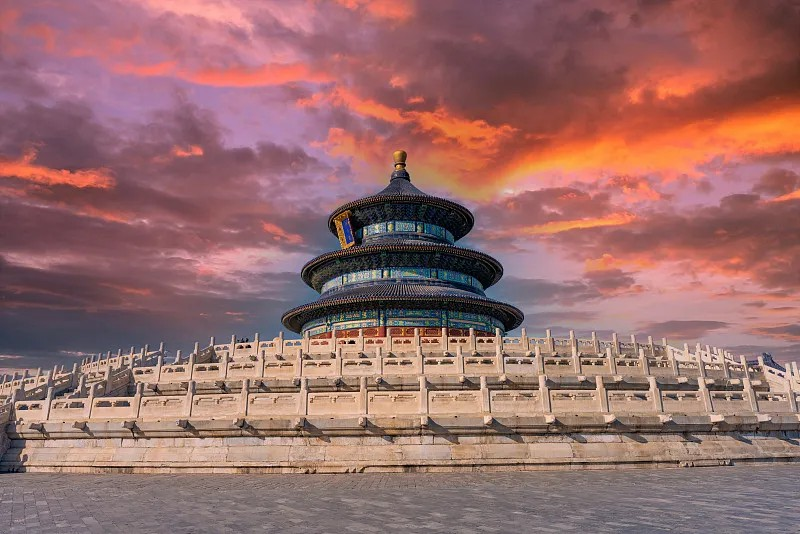Heaven: (281, 149, 525, 338)
